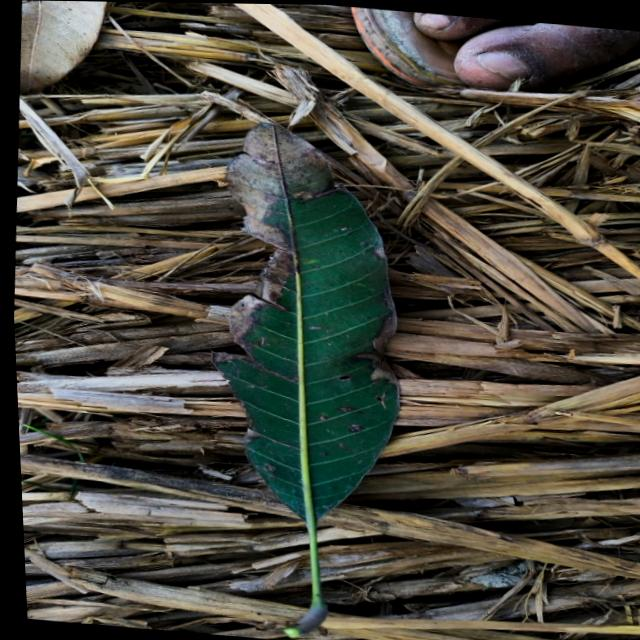Bacterial Cancer: (233, 119, 324, 174), (228, 302, 249, 335)
black die: (333, 403, 351, 413)
